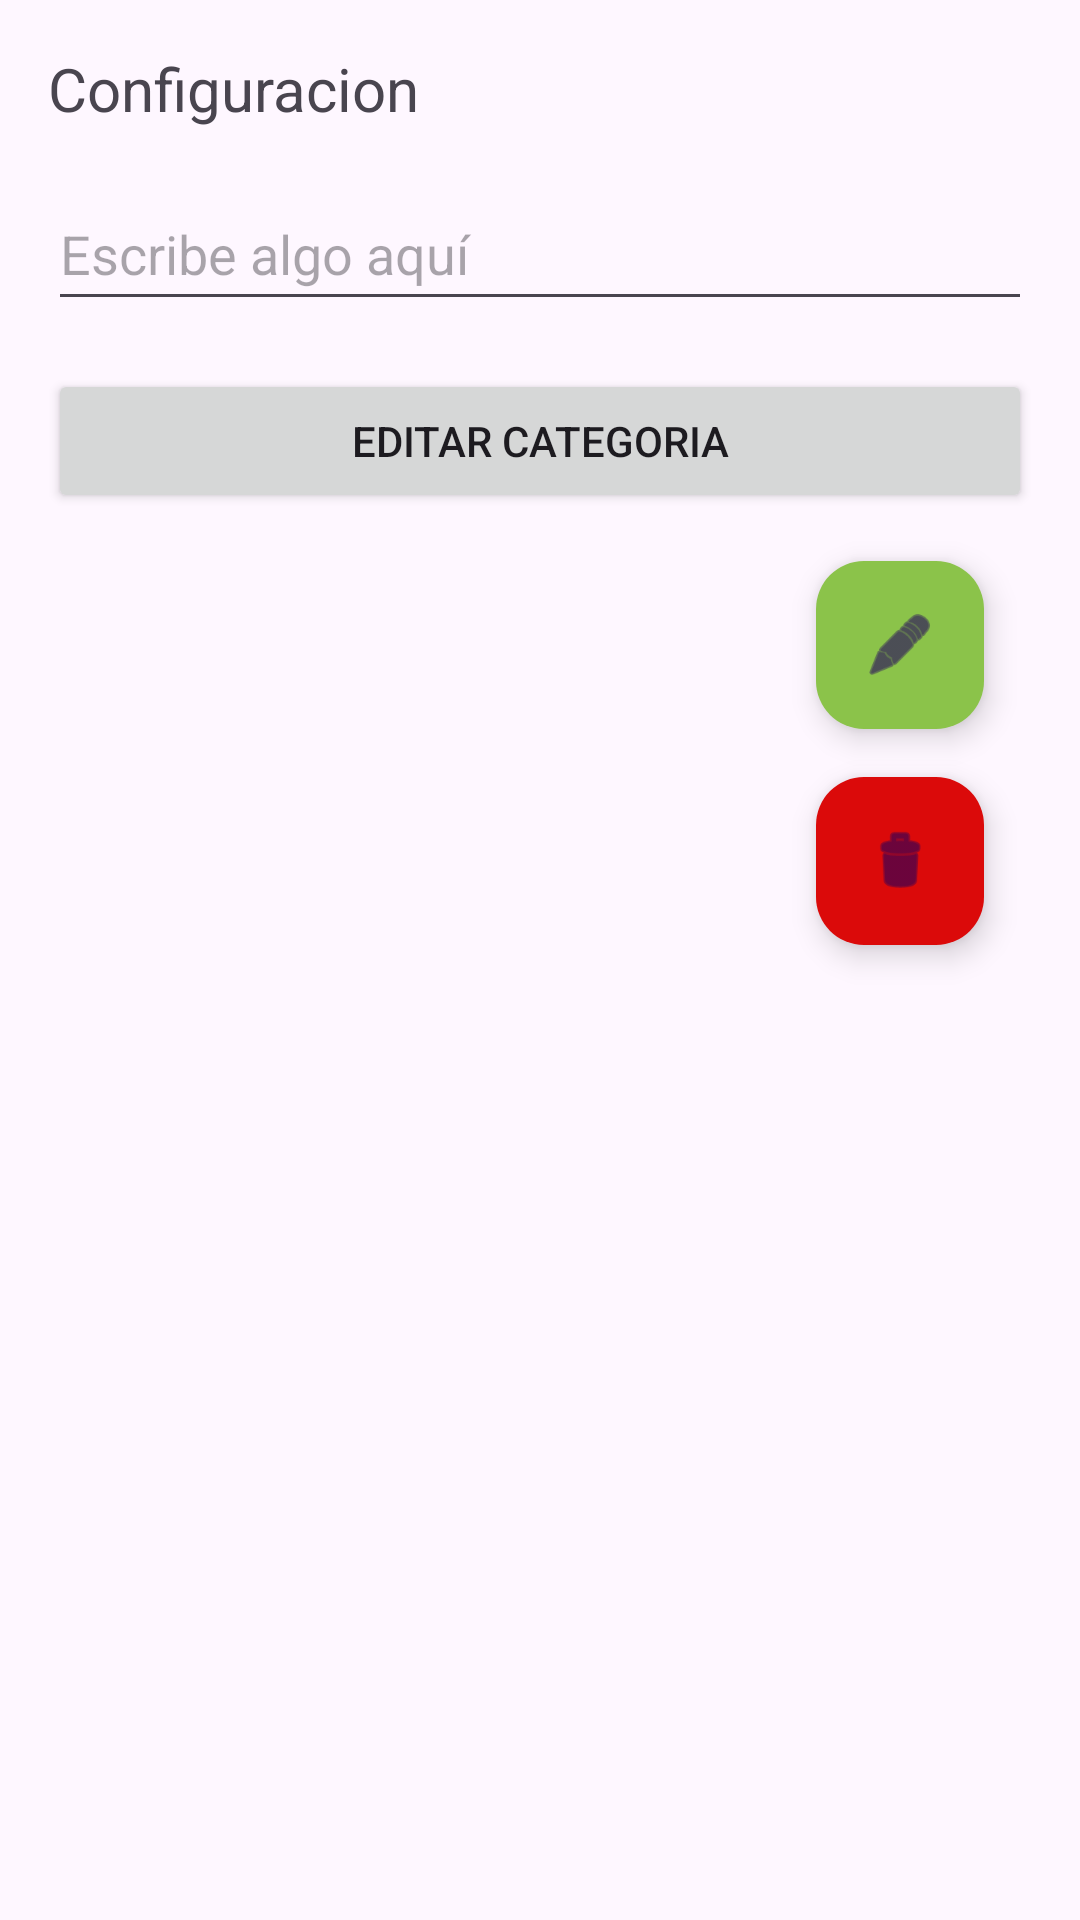

Named icons in this screenshot (1080×1920) and their bounding boxes, (x1, y1, x2, y2):
delete: (816, 777, 984, 945)
